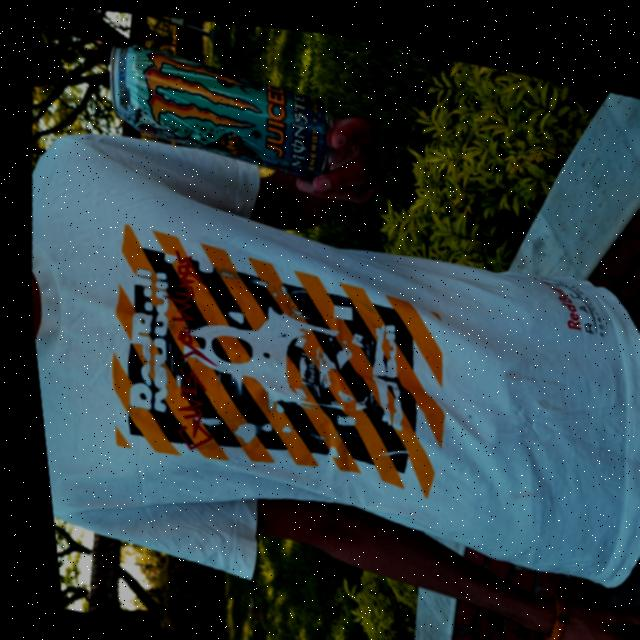Monster Aussie Lemonade: (96, 32, 337, 176)
